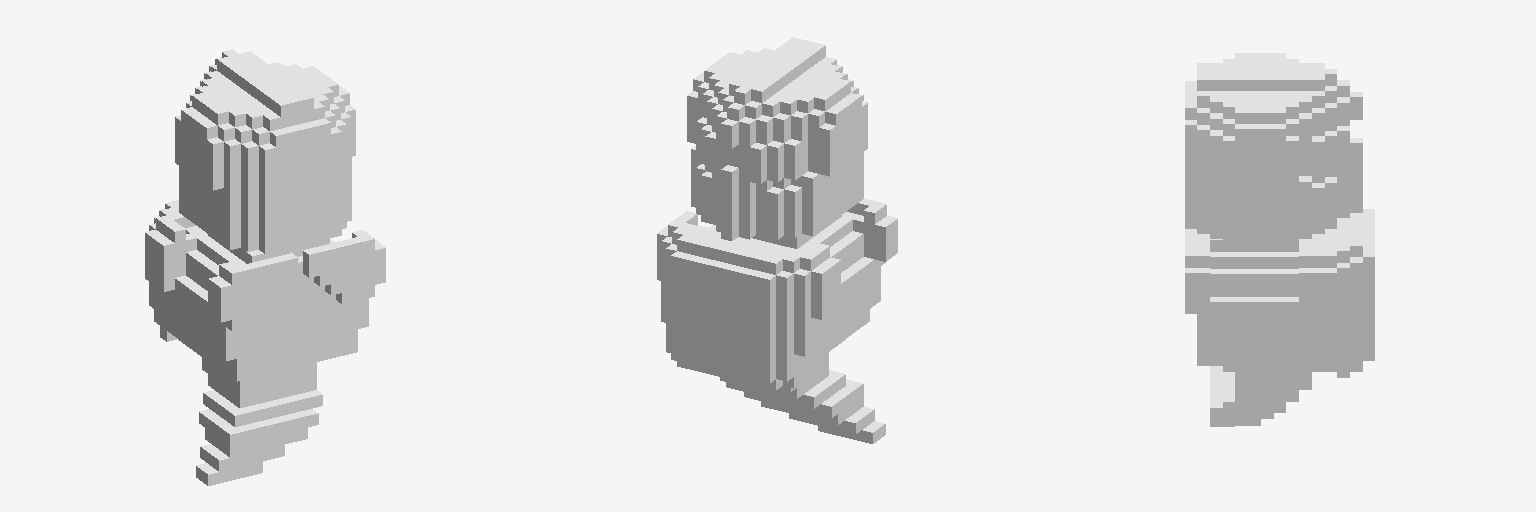
File: phantom_warrior.vox.obj
3 renders of one model, left to right at view 1: azimuth 30°, elevation 25°; view 2: azimuth 150°, elevation 25°; view 3: azimuth 270°, elevation 25°, orthographic.
Visible parts, largest first — view 1: object 1; view 2: object 1; view 3: object 1.
Boxes of the visible parts, <box> form: object 1: <box>145,49,385,485</box>; object 1: <box>657,37,897,443</box>; object 1: <box>1185,53,1374,426</box>.
Bounding box in the file's own units: 1.5 × 3.2 × 1.5.